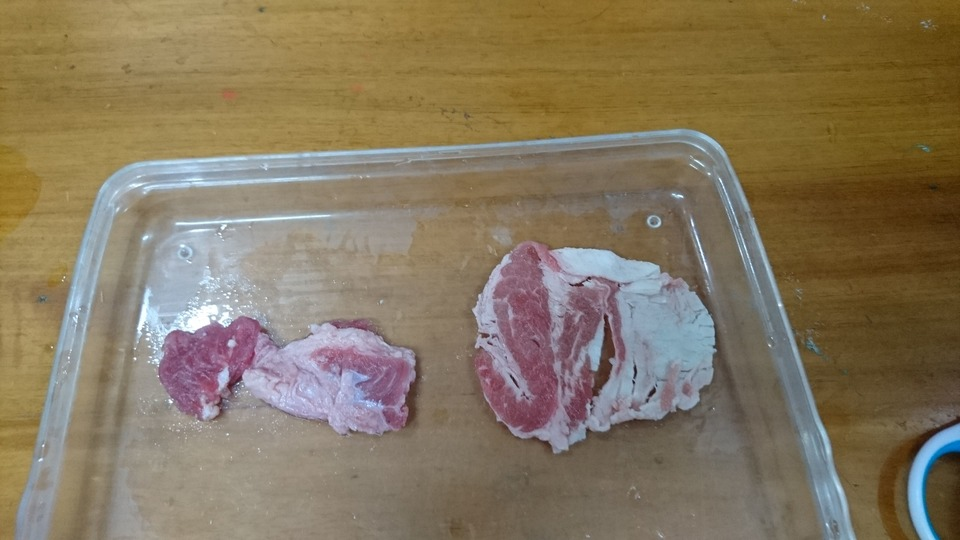restructured meat: (471, 234, 722, 458), (154, 308, 418, 438)
